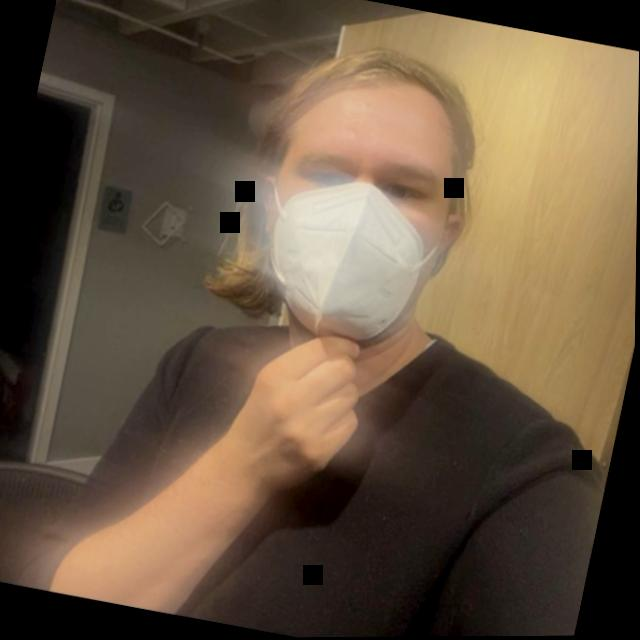Mask: (211, 37, 508, 386)
